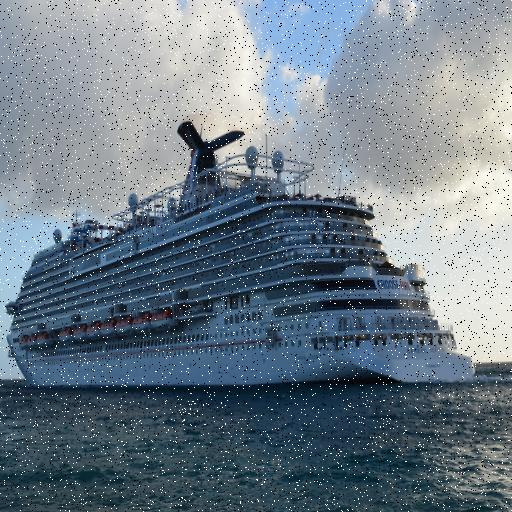cruises: (3, 115, 479, 399)
